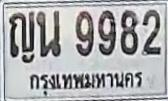2: (142, 10, 161, 54)
8: (120, 10, 138, 54)
9: (75, 10, 94, 56), (98, 10, 116, 56)
A13: (8, 11, 35, 57)
A25: (36, 10, 60, 57)
BKK: (27, 68, 143, 91)
